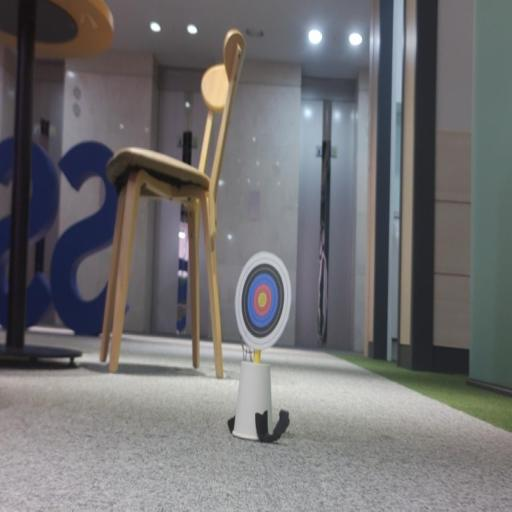target: (235, 252, 291, 348)
